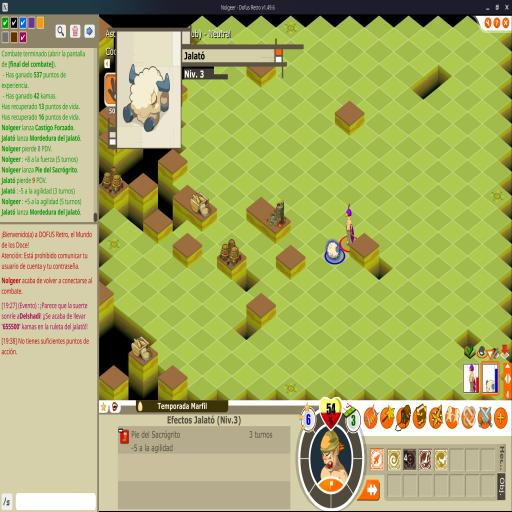Enemigos: (326, 242, 342, 260)
Personaje: (344, 203, 355, 245)
